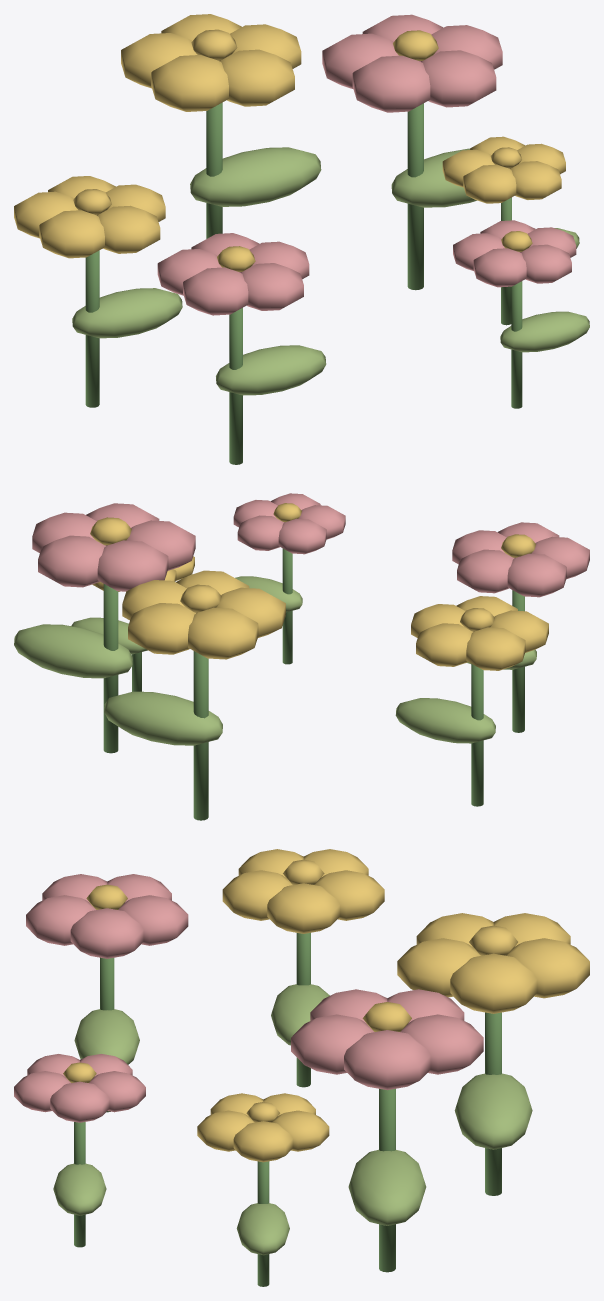
The model's file is flowerbed.glb.
The picture shows the model from 3 angles, top to bottom: view 1: azimuth 30°, elevation 25°; view 2: azimuth 150°, elevation 25°; view 3: azimuth 270°, elevation 25°; orthographic projection. The views are drawn at different scales.
Visible parts, largest first — view 1: flowerbed_World_Mesh; view 2: flowerbed_World_Mesh; view 3: flowerbed_World_Mesh.
Part boxes in pixels (bbox=[...]): flowerbed_World_Mesh: bbox=[14, 14, 589, 464]; flowerbed_World_Mesh: bbox=[14, 493, 589, 820]; flowerbed_World_Mesh: bbox=[14, 849, 589, 1286].
Size of the model in its own units: 0.8564 by 0.3895 by 0.7724.
